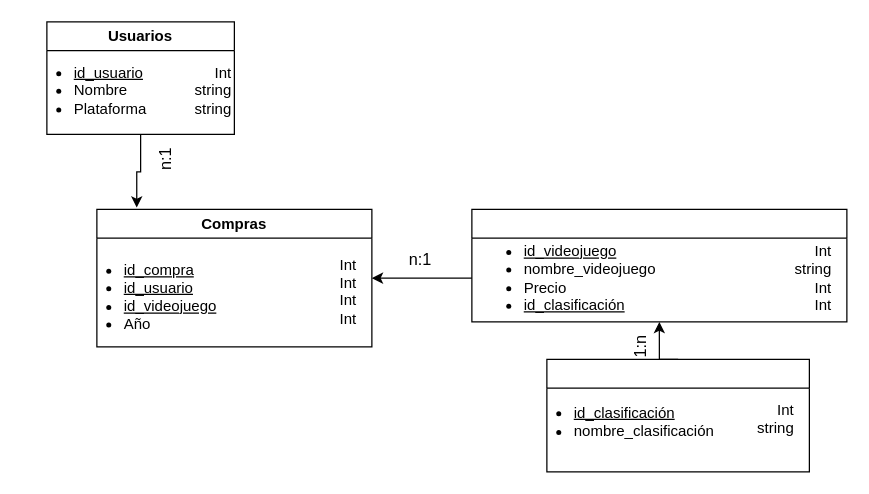
Some shapes in this 869 by 494 pixel diagram are drawn without their labels. Each missing label, with the box of its shape:
Clasificaciones: (546, 358, 809, 472)
Videojuegos: (471, 208, 847, 322)
